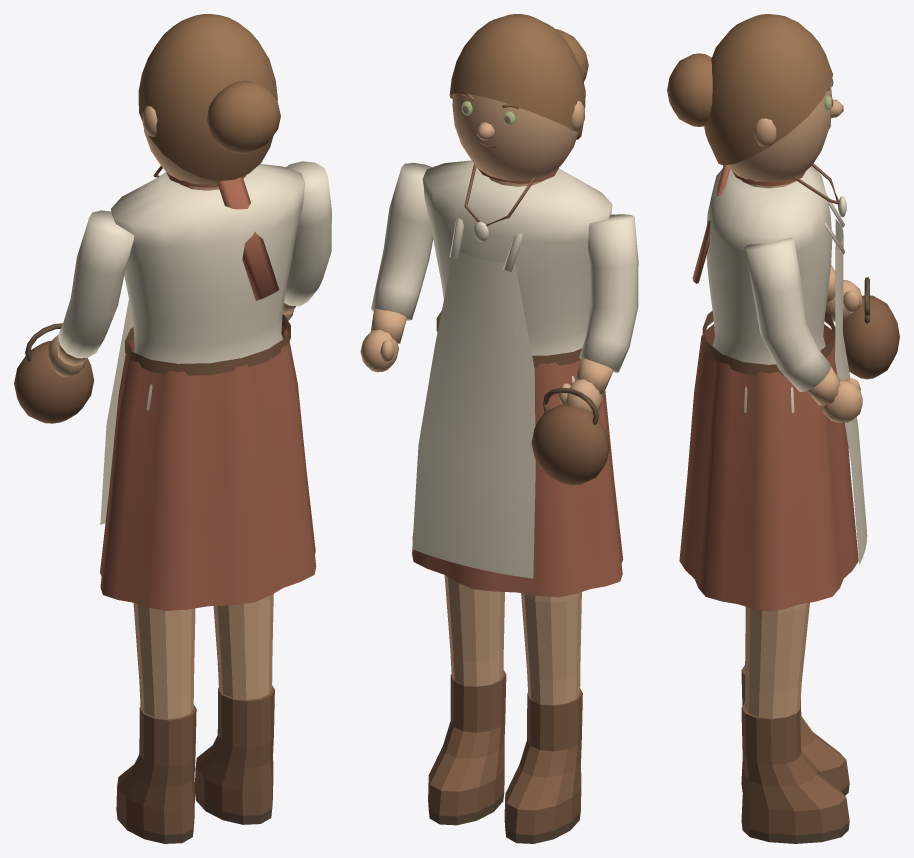
File: SM_NPC_MERC.glb
3 views of the same model, side by side, from view 1: azimuth 30°, elevation 25°; view 2: azimuth 150°, elevation 25°; view 3: azimuth 270°, elevation 25° (orthographic). The views are drawn at different scales.
Visible parts, largest first — view 1: SM_NPC_MERC_BODY, SM_NPC_MERC_HAIR, SM_NPC_MERC_LEG_L, SM_NPC_MERC_LEG_R, SM_NPC_MERC_ARM_L, SM_NPC_MERC_ARM_R, SM_NPC_MERC_HEAD; view 2: SM_NPC_MERC_BODY, SM_NPC_MERC_LEG_L, SM_NPC_MERC_LEG_R, SM_NPC_MERC_ARM_L, SM_NPC_MERC_HAIR, SM_NPC_MERC_ARM_R, SM_NPC_MERC_HEAD; view 3: SM_NPC_MERC_BODY, SM_NPC_MERC_LEG_R, SM_NPC_MERC_HAIR, SM_NPC_MERC_ARM_R, SM_NPC_MERC_ARM_L, SM_NPC_MERC_HEAD, SM_NPC_MERC_LEG_L.
Part boxes in pixels (bbox=[...]): SM_NPC_MERC_BODY: bbox=[100, 164, 316, 610]; SM_NPC_MERC_HAIR: bbox=[138, 14, 280, 180]; SM_NPC_MERC_LEG_L: bbox=[116, 603, 196, 843]; SM_NPC_MERC_LEG_R: bbox=[195, 594, 274, 824]; SM_NPC_MERC_ARM_L: bbox=[14, 210, 134, 423]; SM_NPC_MERC_ARM_R: bbox=[282, 161, 331, 320]; SM_NPC_MERC_HEAD: bbox=[142, 89, 276, 188]; SM_NPC_MERC_BODY: bbox=[412, 160, 623, 597]; SM_NPC_MERC_LEG_L: bbox=[504, 592, 582, 843]; SM_NPC_MERC_LEG_R: bbox=[428, 575, 506, 825]; SM_NPC_MERC_ARM_L: bbox=[531, 214, 638, 485]; SM_NPC_MERC_HAIR: bbox=[449, 14, 588, 139]; SM_NPC_MERC_ARM_R: bbox=[360, 162, 433, 372]; SM_NPC_MERC_HEAD: bbox=[452, 93, 584, 184]; SM_NPC_MERC_BODY: bbox=[679, 163, 867, 611]; SM_NPC_MERC_LEG_R: bbox=[741, 602, 849, 843]; SM_NPC_MERC_HAIR: bbox=[667, 14, 833, 165]; SM_NPC_MERC_ARM_R: bbox=[744, 237, 862, 422]; SM_NPC_MERC_ARM_L: bbox=[825, 265, 899, 379]; SM_NPC_MERC_HEAD: bbox=[726, 85, 843, 186]; SM_NPC_MERC_LEG_L: bbox=[741, 607, 849, 795].
Size of the model in its own units: 0.6323 by 1.81 by 0.4827.
